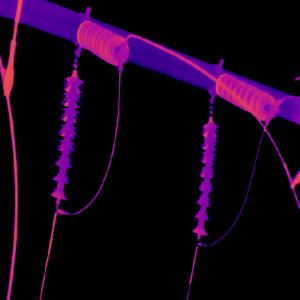insulator: (48, 73, 85, 203), (190, 120, 220, 240), (213, 70, 277, 122), (75, 16, 129, 66)
